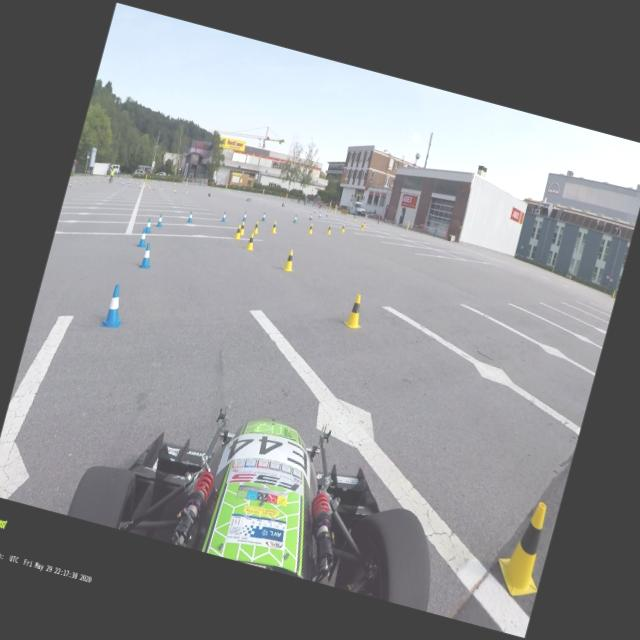blue_cone: (101, 284, 128, 328), (138, 242, 155, 270), (136, 226, 149, 248), (142, 216, 154, 232), (156, 212, 164, 228), (240, 210, 248, 222), (187, 210, 194, 223), (220, 210, 227, 222), (260, 212, 266, 222), (292, 214, 298, 224), (316, 210, 322, 218), (308, 213, 313, 221), (312, 207, 318, 213), (325, 210, 329, 217)
yellow_cone: (492, 494, 559, 600), (341, 292, 368, 331), (280, 248, 298, 274), (243, 230, 257, 251), (232, 222, 244, 242), (251, 219, 261, 234), (237, 221, 247, 236), (306, 222, 315, 235), (270, 220, 278, 234), (325, 223, 333, 234), (339, 224, 345, 232), (360, 223, 364, 231), (352, 215, 357, 221), (362, 220, 366, 227), (328, 209, 332, 214)
